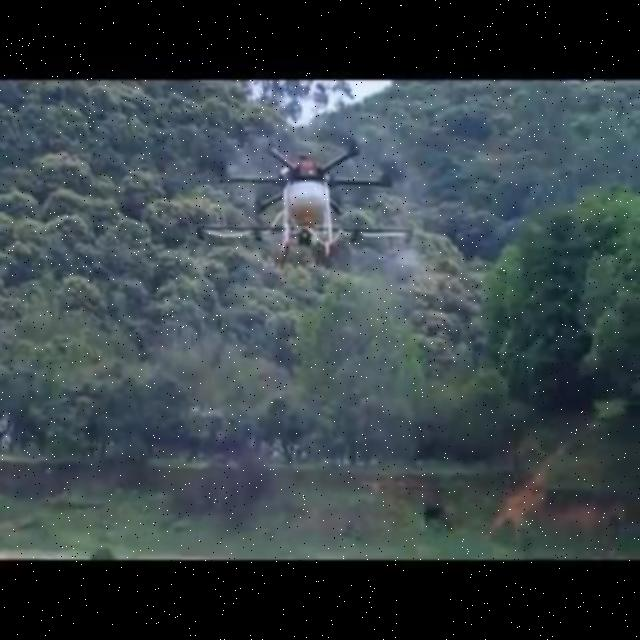UAV: (196, 135, 415, 270)
